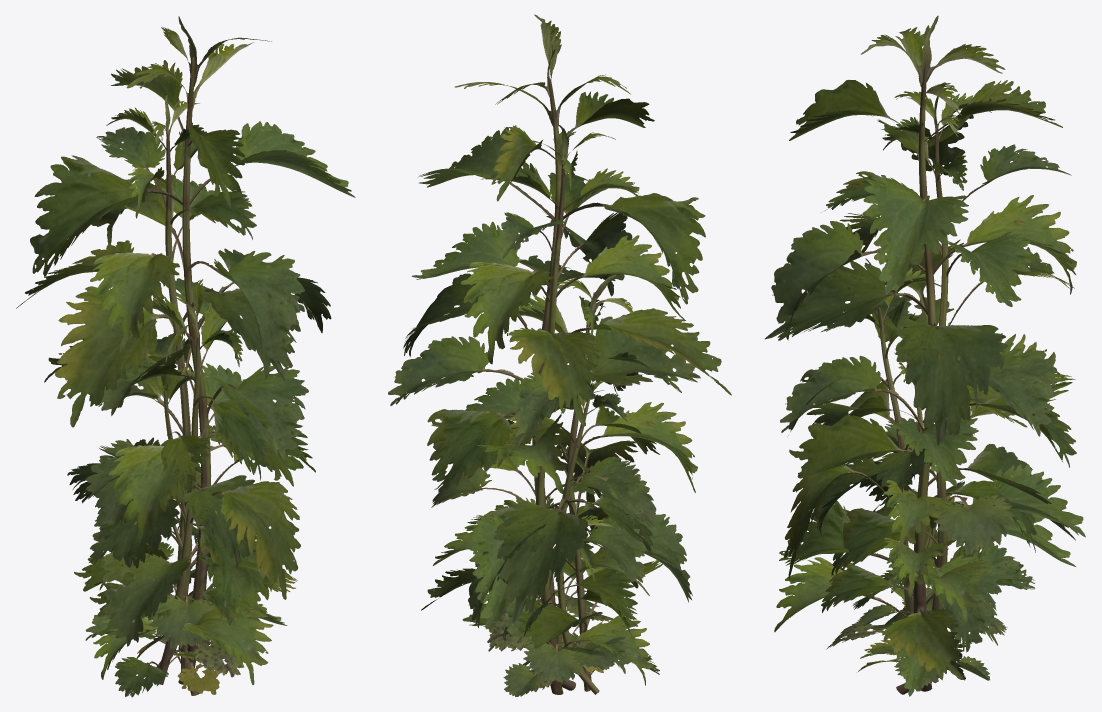
The model's file is nettle.glb.
The picture shows the model from 3 angles, left to right: view 1: azimuth 30°, elevation 25°; view 2: azimuth 150°, elevation 25°; view 3: azimuth 270°, elevation 25°; orthographic projection. The views are drawn at different scales.
Parts seen in each view (by area): view 1: nettle_plant_tall_a_LOD0, nettle_plant_medium_a_LOD0, nettle_plant_tall_b_LOD0, nettle_plant_medium_b_LOD0, nettle_plant_small_a_LOD0, nettle_plant_small_b_LOD0; view 2: nettle_plant_tall_a_LOD0, nettle_plant_tall_b_LOD0, nettle_plant_medium_a_LOD0, nettle_plant_medium_b_LOD0, nettle_plant_small_a_LOD0, nettle_plant_small_b_LOD0; view 3: nettle_plant_tall_a_LOD0, nettle_plant_tall_b_LOD0, nettle_plant_medium_a_LOD0, nettle_plant_medium_b_LOD0, nettle_plant_small_a_LOD0, nettle_plant_small_b_LOD0.
Boxes of the visible parts, x1,y1,x2,y2 form: nettle_plant_tall_a_LOD0: (30, 16, 355, 684); nettle_plant_medium_a_LOD0: (67, 279, 300, 697); nettle_plant_tall_b_LOD0: (16, 95, 307, 695); nettle_plant_medium_b_LOD0: (89, 359, 261, 667); nettle_plant_small_a_LOD0: (93, 495, 287, 694); nettle_plant_small_b_LOD0: (85, 583, 258, 663); nettle_plant_tall_a_LOD0: (403, 14, 731, 694); nettle_plant_tall_b_LOD0: (388, 125, 700, 690); nettle_plant_medium_a_LOD0: (431, 275, 697, 691); nettle_plant_medium_b_LOD0: (467, 381, 659, 694); nettle_plant_small_a_LOD0: (469, 495, 653, 691); nettle_plant_small_b_LOD0: (462, 603, 630, 696); nettle_plant_tall_a_LOD0: (771, 15, 1076, 691); nettle_plant_tall_b_LOD0: (765, 91, 1085, 694); nettle_plant_medium_a_LOD0: (774, 258, 1075, 688); nettle_plant_medium_b_LOD0: (814, 352, 1036, 657); nettle_plant_small_a_LOD0: (852, 489, 998, 696); nettle_plant_small_b_LOD0: (860, 587, 989, 680).
Size of the model in its own units: 0.3108 by 0.6553 by 0.2841.
Materials: 1 (1 with a texture image).
